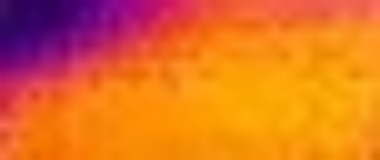Shadow: (1, 1, 143, 75)
